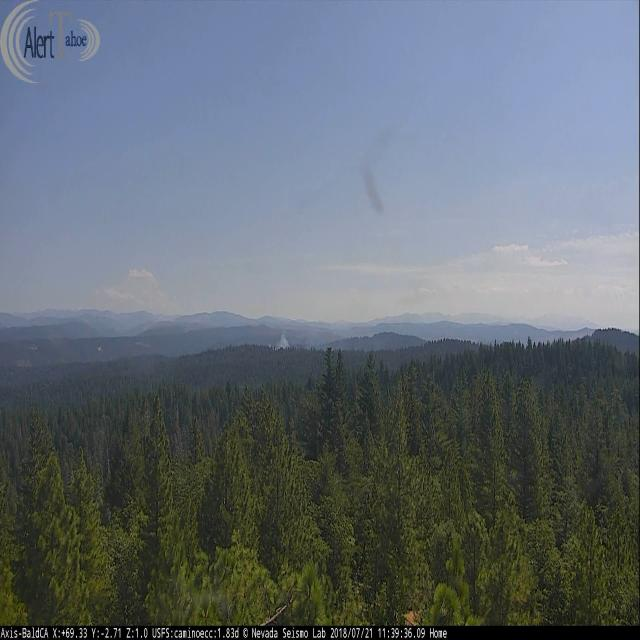smoke: (269, 329, 290, 352)
